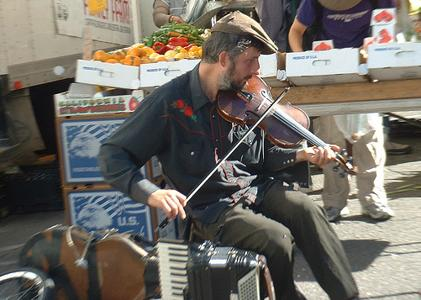person: (98, 13, 363, 300)
